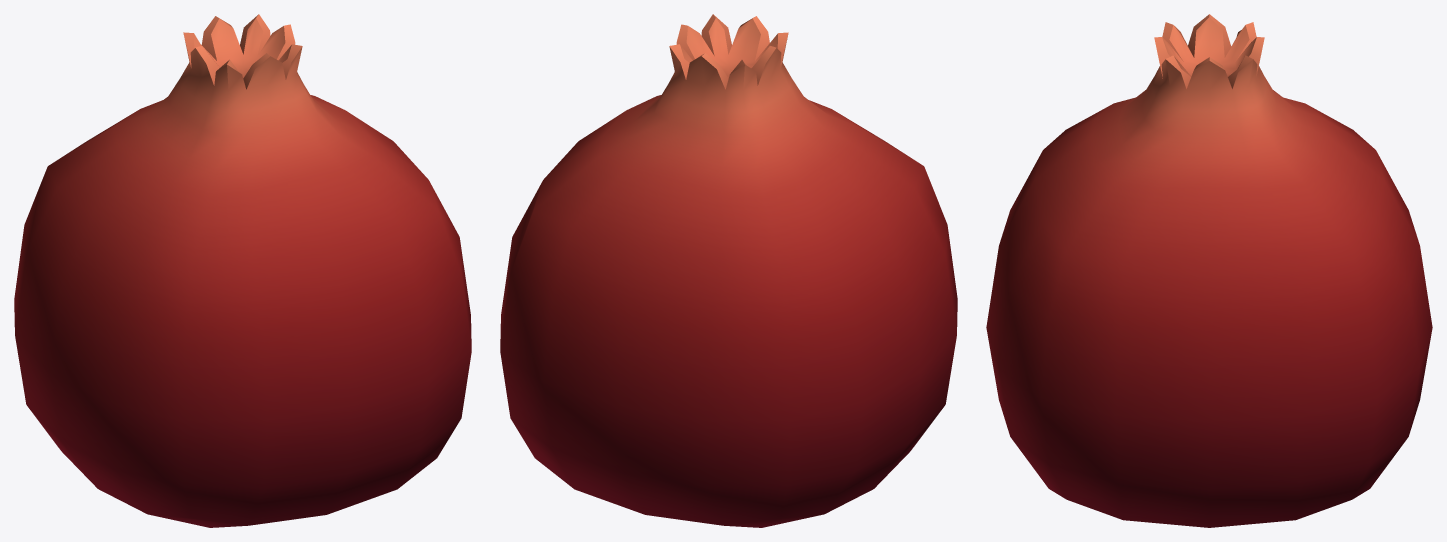
File: Pomegranate_01.glb
The picture shows the model from 3 angles, left to right: view 1: azimuth 30°, elevation 25°; view 2: azimuth 150°, elevation 25°; view 3: azimuth 270°, elevation 25°; orthographic projection.
Visible parts, largest first — view 1: Pomegranate_01; view 2: Pomegranate_01; view 3: Pomegranate_01.
Part boxes in pixels (left/top/right/bottom): Pomegranate_01: left=14, top=14, right=471, bottom=527; Pomegranate_01: left=500, top=14, right=957, bottom=527; Pomegranate_01: left=986, top=14, right=1432, bottom=527.
Bounding box in the file's own units: 0.3003 × 0.3392 × 0.3003.
Materials: 1 (1 with a texture image).
